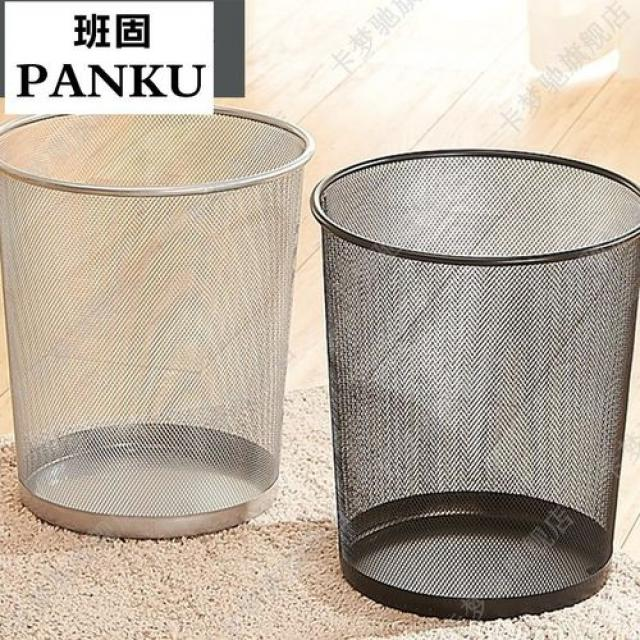Dustbin: (304, 142, 640, 624), (0, 102, 322, 541)
